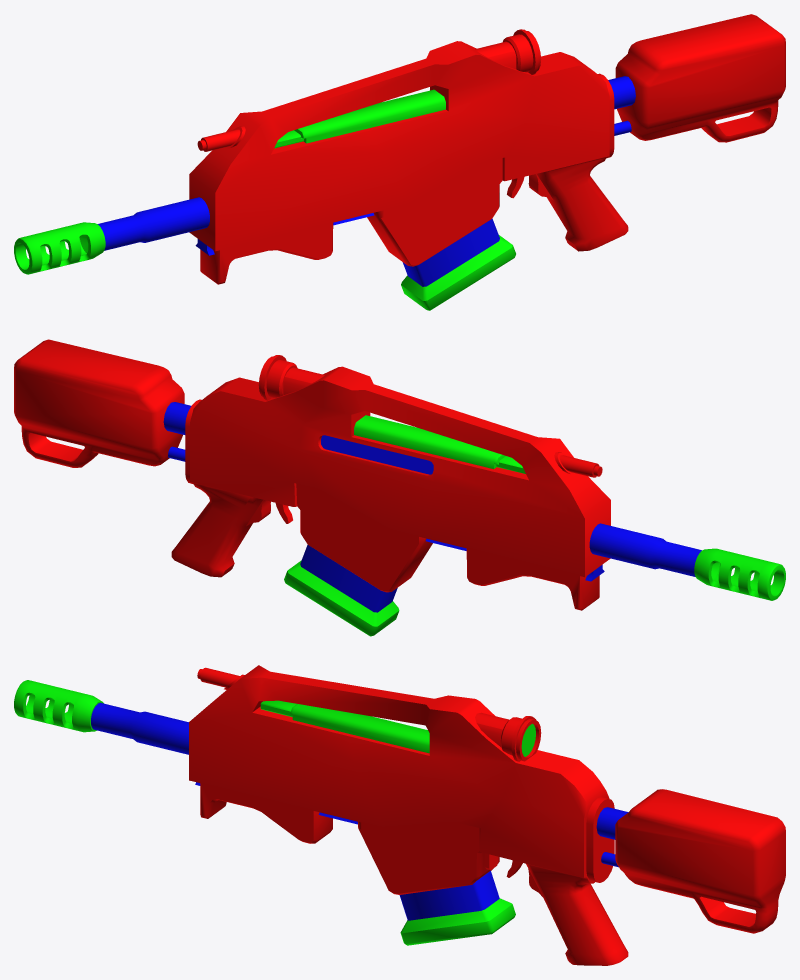
Rendered from SM_assaultrifle.FBX.
3 renders of one model, top to bottom at view 1: azimuth 30°, elevation 25°; view 2: azimuth 150°, elevation 25°; view 3: azimuth 330°, elevation 25°, orthographic.
Visible parts, largest first — view 1: reciever_low001; view 2: reciever_low001; view 3: reciever_low001.
Boxes of the visible parts, x1,y1,x2,y2 form: reciever_low001: (14, 14, 785, 310); reciever_low001: (14, 339, 785, 636); reciever_low001: (14, 665, 785, 965).
Bounding box in the file's own units: 96.29 × 30.07 × 6.84.
